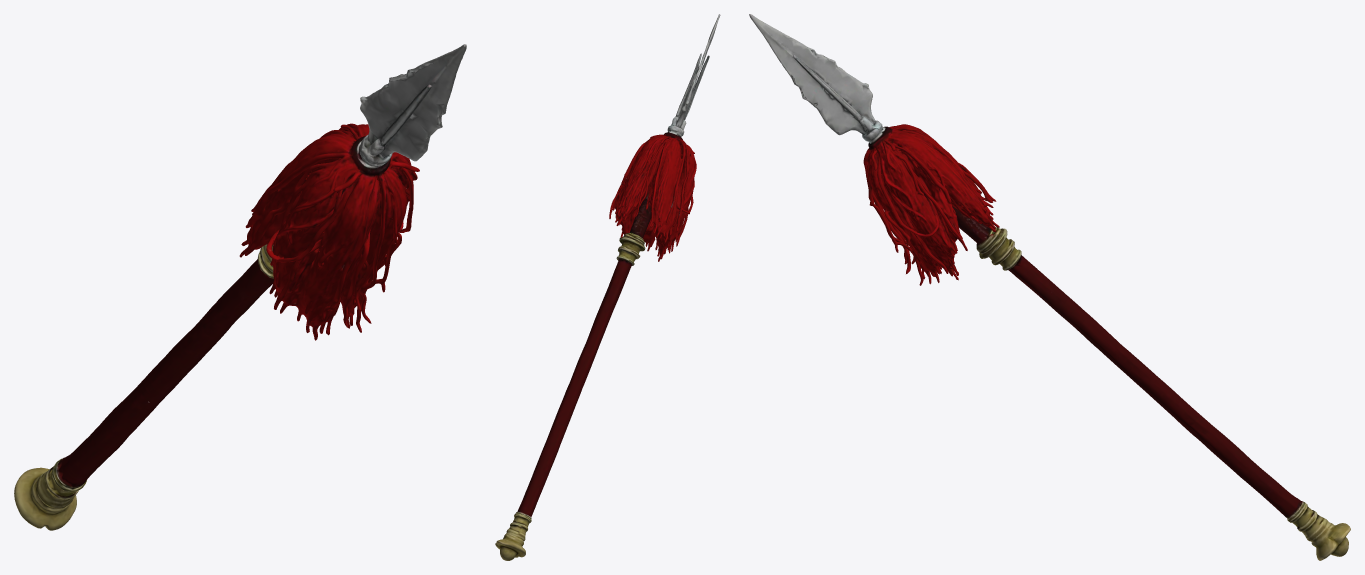
The model's file is w-spear.glb.
3 renders of one model, left to right at view 1: azimuth 30°, elevation 25°; view 2: azimuth 150°, elevation 25°; view 3: azimuth 270°, elevation 25°, orthographic. The views are drawn at different scales.
Visible parts, largest first — view 1: tripo_node_f4327e5c-c165-48e9-a2b7-4da7b716de38; view 2: tripo_node_f4327e5c-c165-48e9-a2b7-4da7b716de38; view 3: tripo_node_f4327e5c-c165-48e9-a2b7-4da7b716de38.
Part boxes in pixels (x1,y1,x2,y2): tripo_node_f4327e5c-c165-48e9-a2b7-4da7b716de38: [14, 44, 466, 530]; tripo_node_f4327e5c-c165-48e9-a2b7-4da7b716de38: [495, 14, 720, 560]; tripo_node_f4327e5c-c165-48e9-a2b7-4da7b716de38: [749, 14, 1350, 560].
Bounding box in the file's own units: 0.177 × 0.9796 × 0.9799.
Materials: 1 (1 with a texture image).
